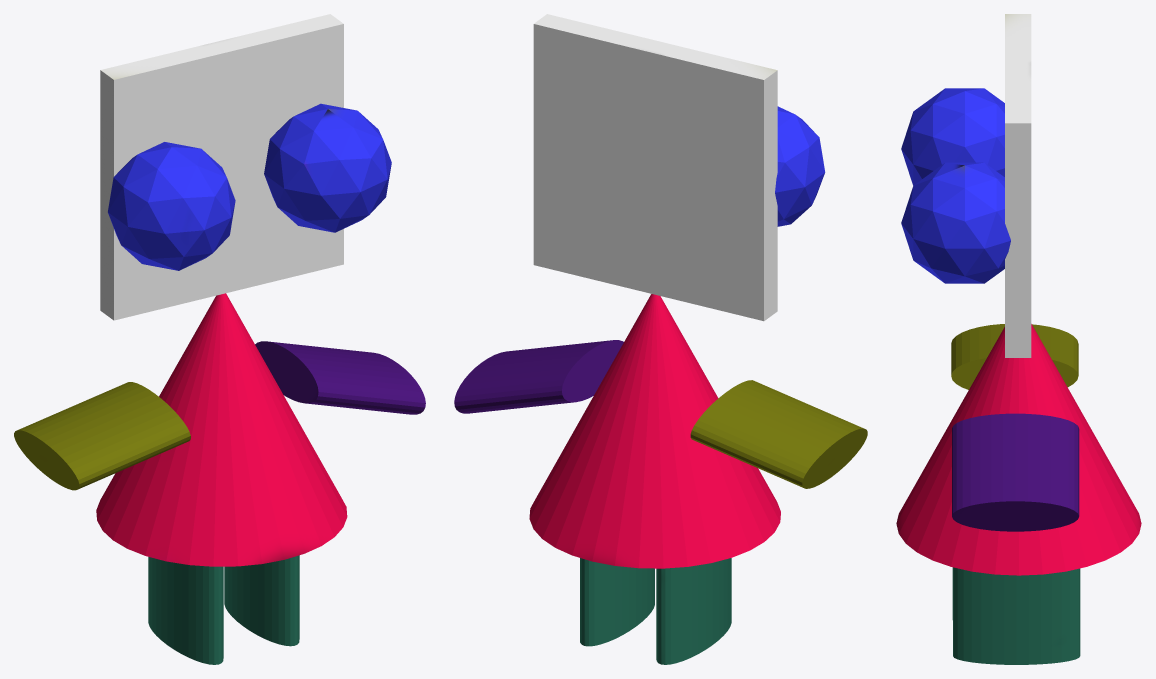
The model's file is ART.fbx.
3 renders of one model, left to right at view 1: azimuth 30°, elevation 25°; view 2: azimuth 150°, elevation 25°; view 3: azimuth 270°, elevation 25°, orthographic. The views are drawn at different scales.
Parts seen in each view (by area): view 1: Cube; view 2: Cube; view 3: Cube.
Boxes of the visible parts, left/top/right/bottom form: Cube: left=14, top=14, right=425, bottom=664; Cube: left=454, top=14, right=867, bottom=664; Cube: left=896, top=14, right=1141, bottom=664.
Size of the model in its own units: 6.28 by 9.86 by 3.85.
Materials: 1 (1 with a texture image).
